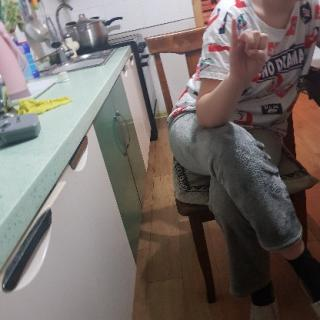MEEM: (228, 17, 272, 84)
